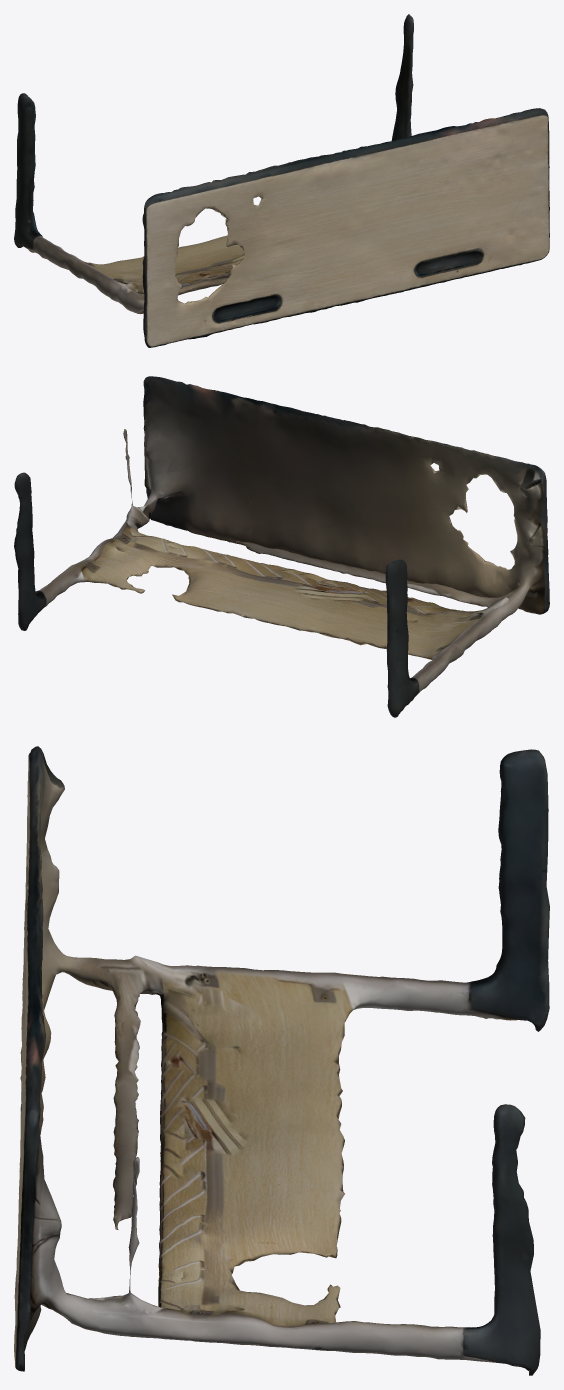
Rendered from Table.obj.
3 renders of one model, top to bottom at view 1: azimuth 30°, elevation 25°; view 2: azimuth 150°, elevation 25°; view 3: azimuth 270°, elevation 25°, orthographic. The views are drawn at different scales.
Parts seen in each view (by area): view 1: obj1; view 2: obj1; view 3: obj1.
Boxes of the visible parts, x1,y1,x2,y2 form: obj1: (14, 14, 549, 347); obj1: (14, 376, 549, 717); obj1: (14, 746, 549, 1375).
Bounding box in the file's own units: 1.19 × 0.4502 × 0.747.
1 material, 1 textured.
